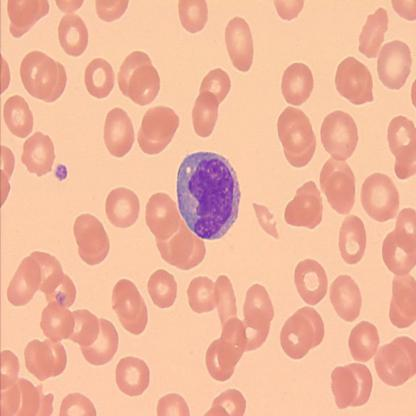Monocyte: (174, 148, 244, 244)
